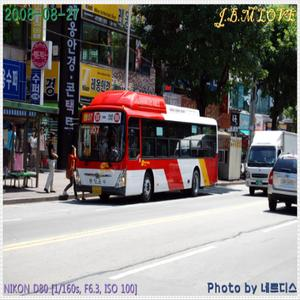07bus: (73, 89, 229, 196)
